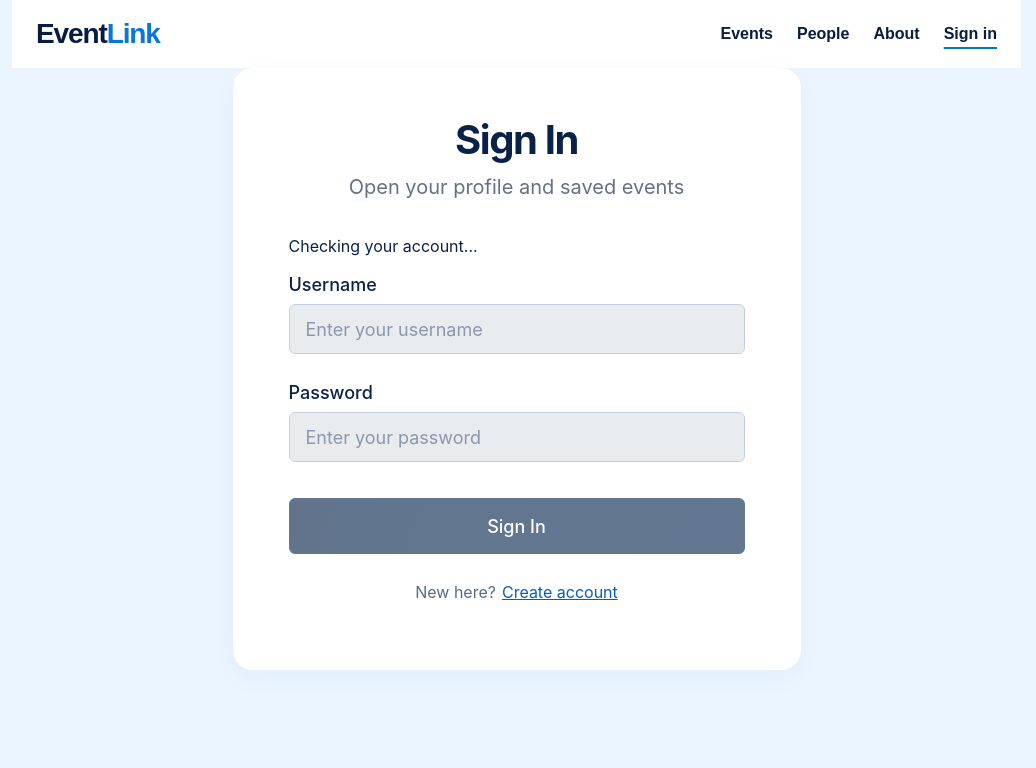
a new visitor can reach registration directly from the sign-in card
Click the link "Create account" at (560, 592), box x1=502 y1=582 x2=618 y2=602
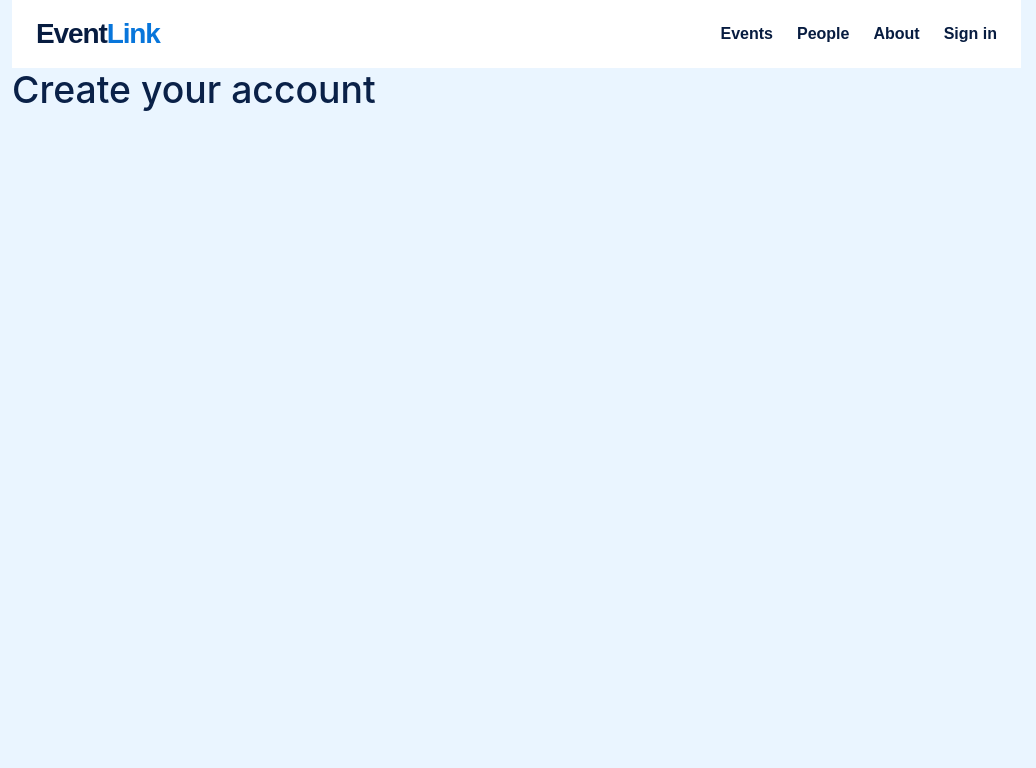
Expected: the heading "Create your account" is shown, x1=12 y1=67 x2=376 y2=112
